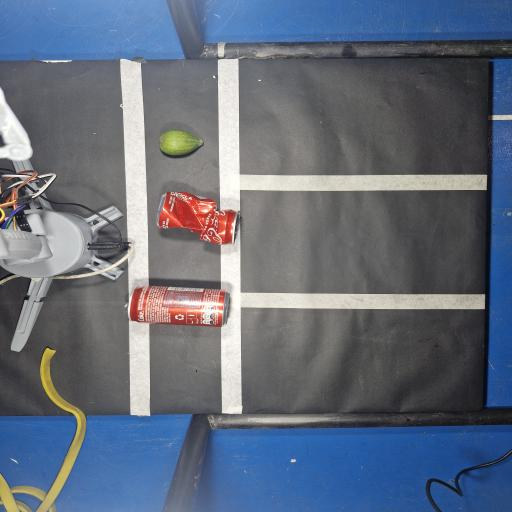higo: (159, 131, 203, 155)
lata: (129, 286, 229, 327)
lata_defectuoso: (157, 192, 234, 244)
